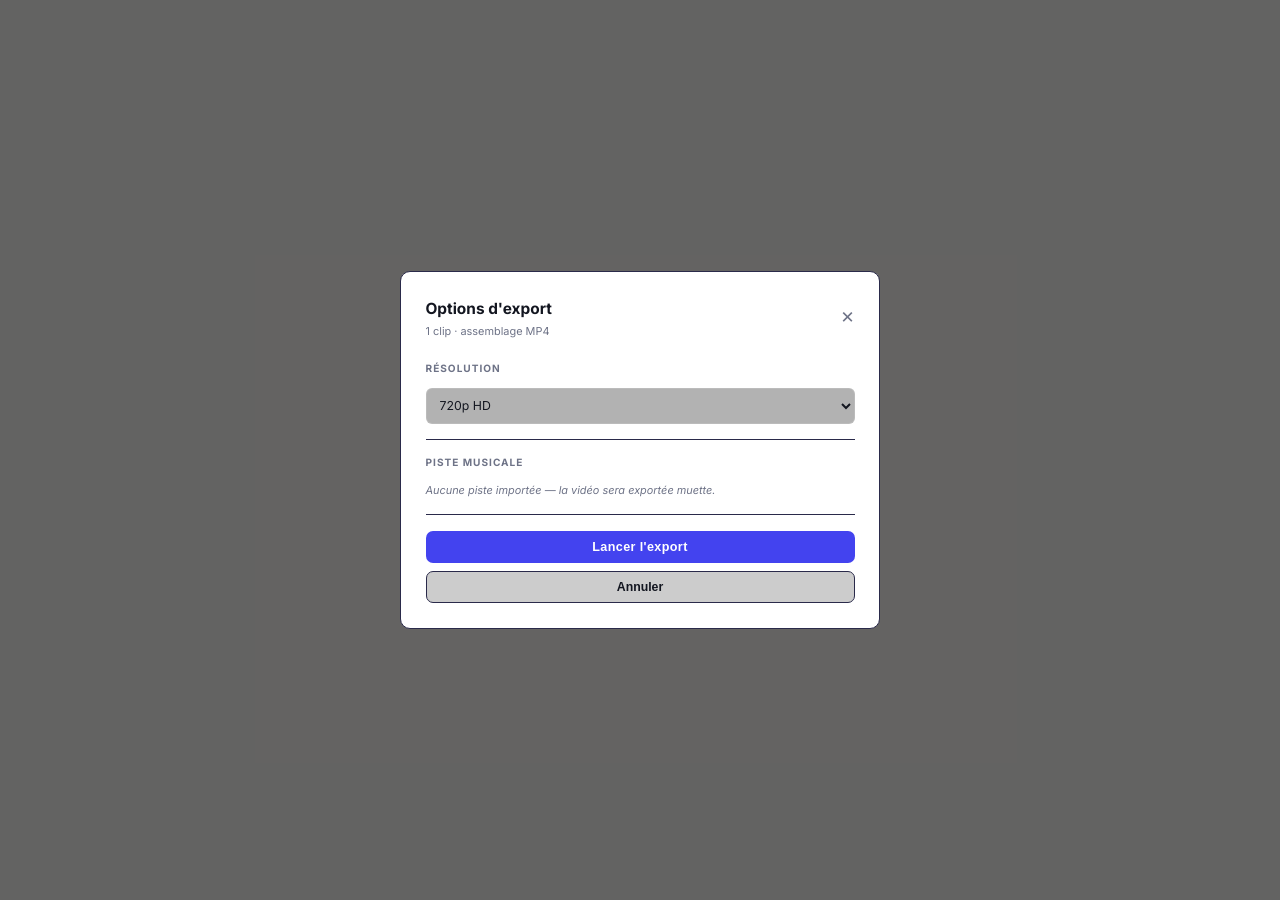
Scenario: ExportPanel › progress bar shown during export
Click the button "Lancer l'export" at (640, 547), box [426,531,854,563]
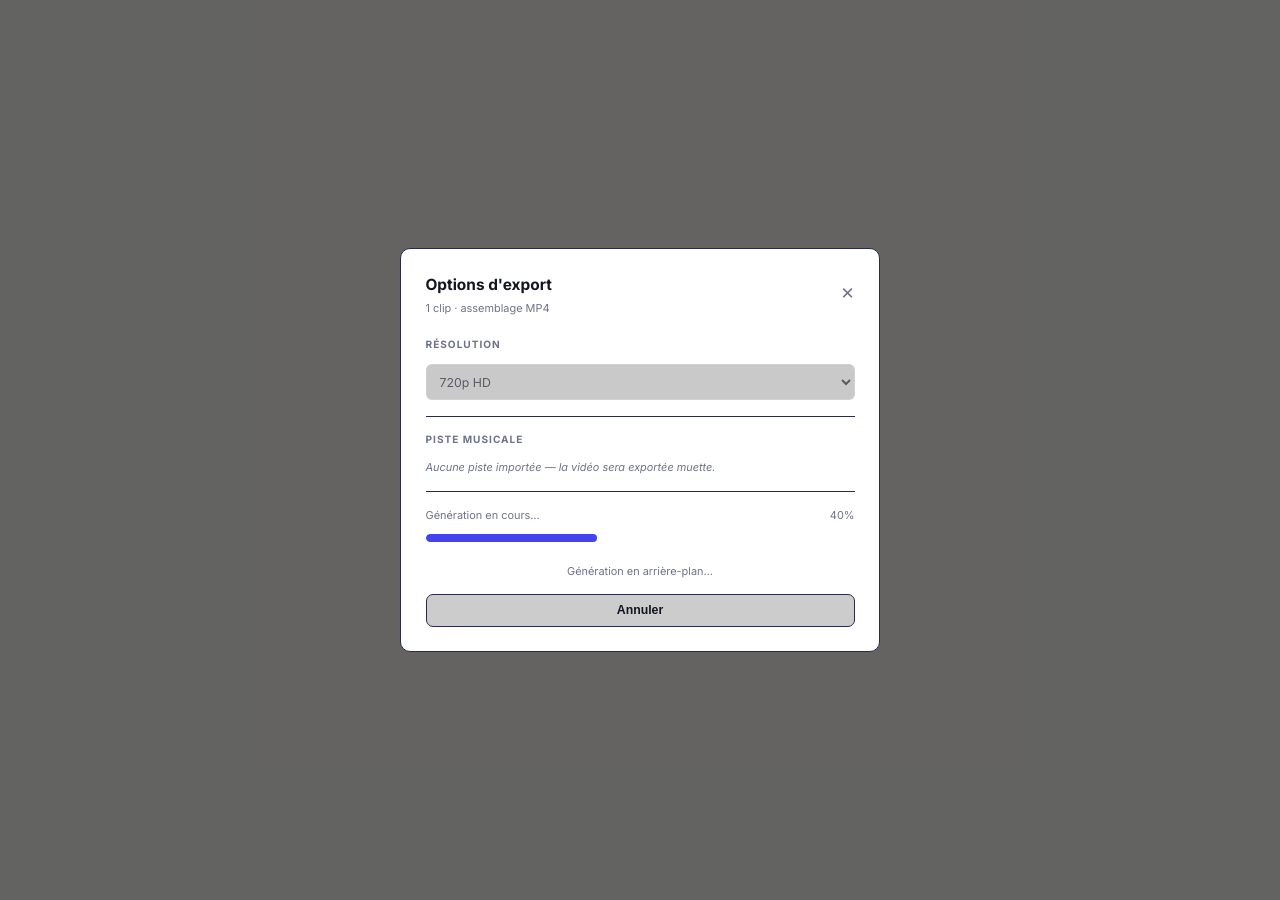
Result: the progress indicator is shown at [426,534,854,542]
